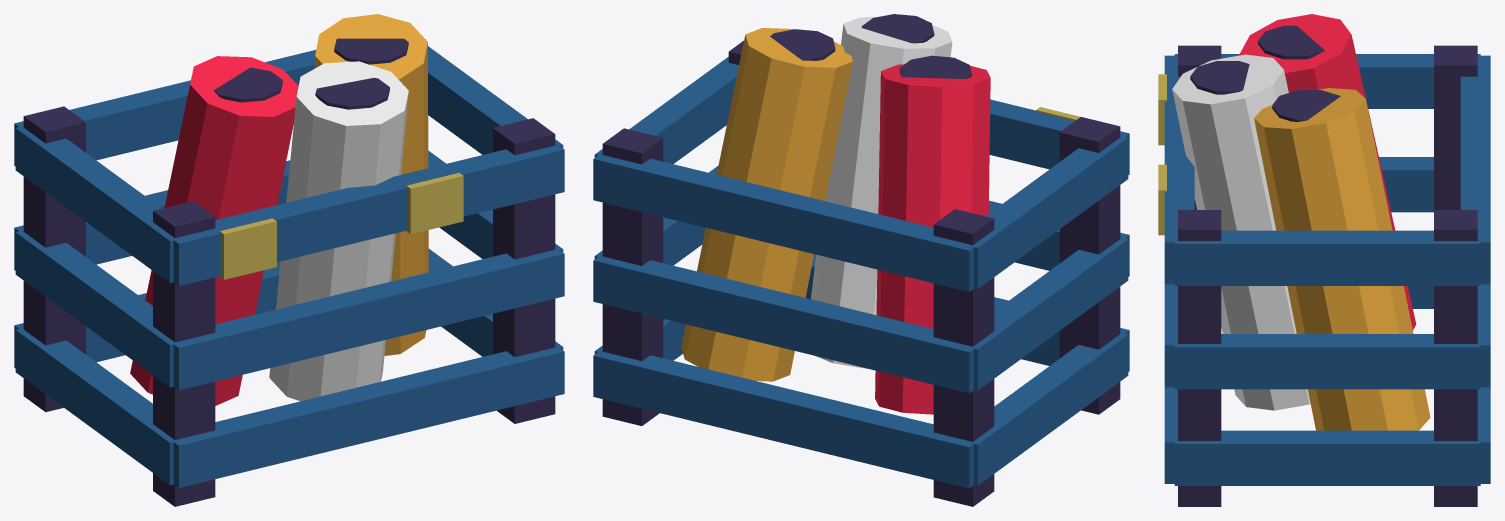
Rendered from PaperCrate.obj.
The picture shows the model from 3 angles, left to right: view 1: azimuth 30°, elevation 25°; view 2: azimuth 150°, elevation 25°; view 3: azimuth 270°, elevation 25°; orthographic projection. The views are drawn at different scales.
Visible parts, largest first — view 1: PaperCrate; view 2: PaperCrate; view 3: PaperCrate.
Part boxes in pixels (x1,y1,x2,y2): PaperCrate: (14, 14, 564, 506); PaperCrate: (593, 14, 1129, 506); PaperCrate: (1158, 14, 1490, 506).
Bounding box in the file's own units: 0.632 × 0.5472 × 0.467.
Materials: 1 (1 with a texture image).
